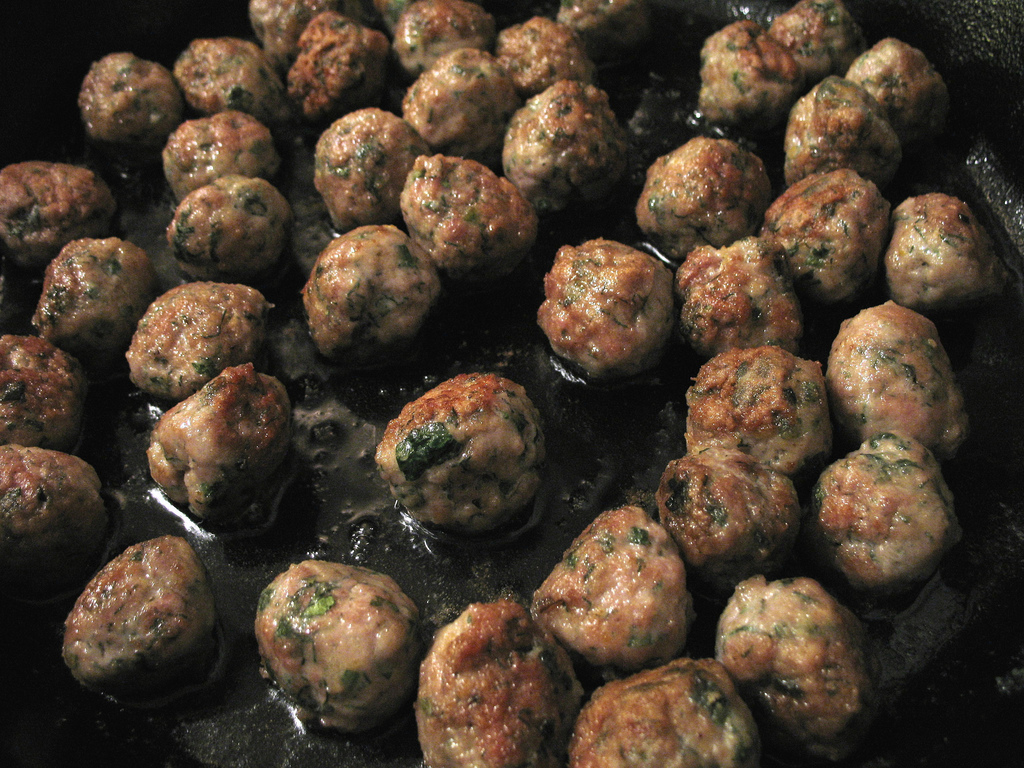meatballs: (29, 19, 1009, 754)
